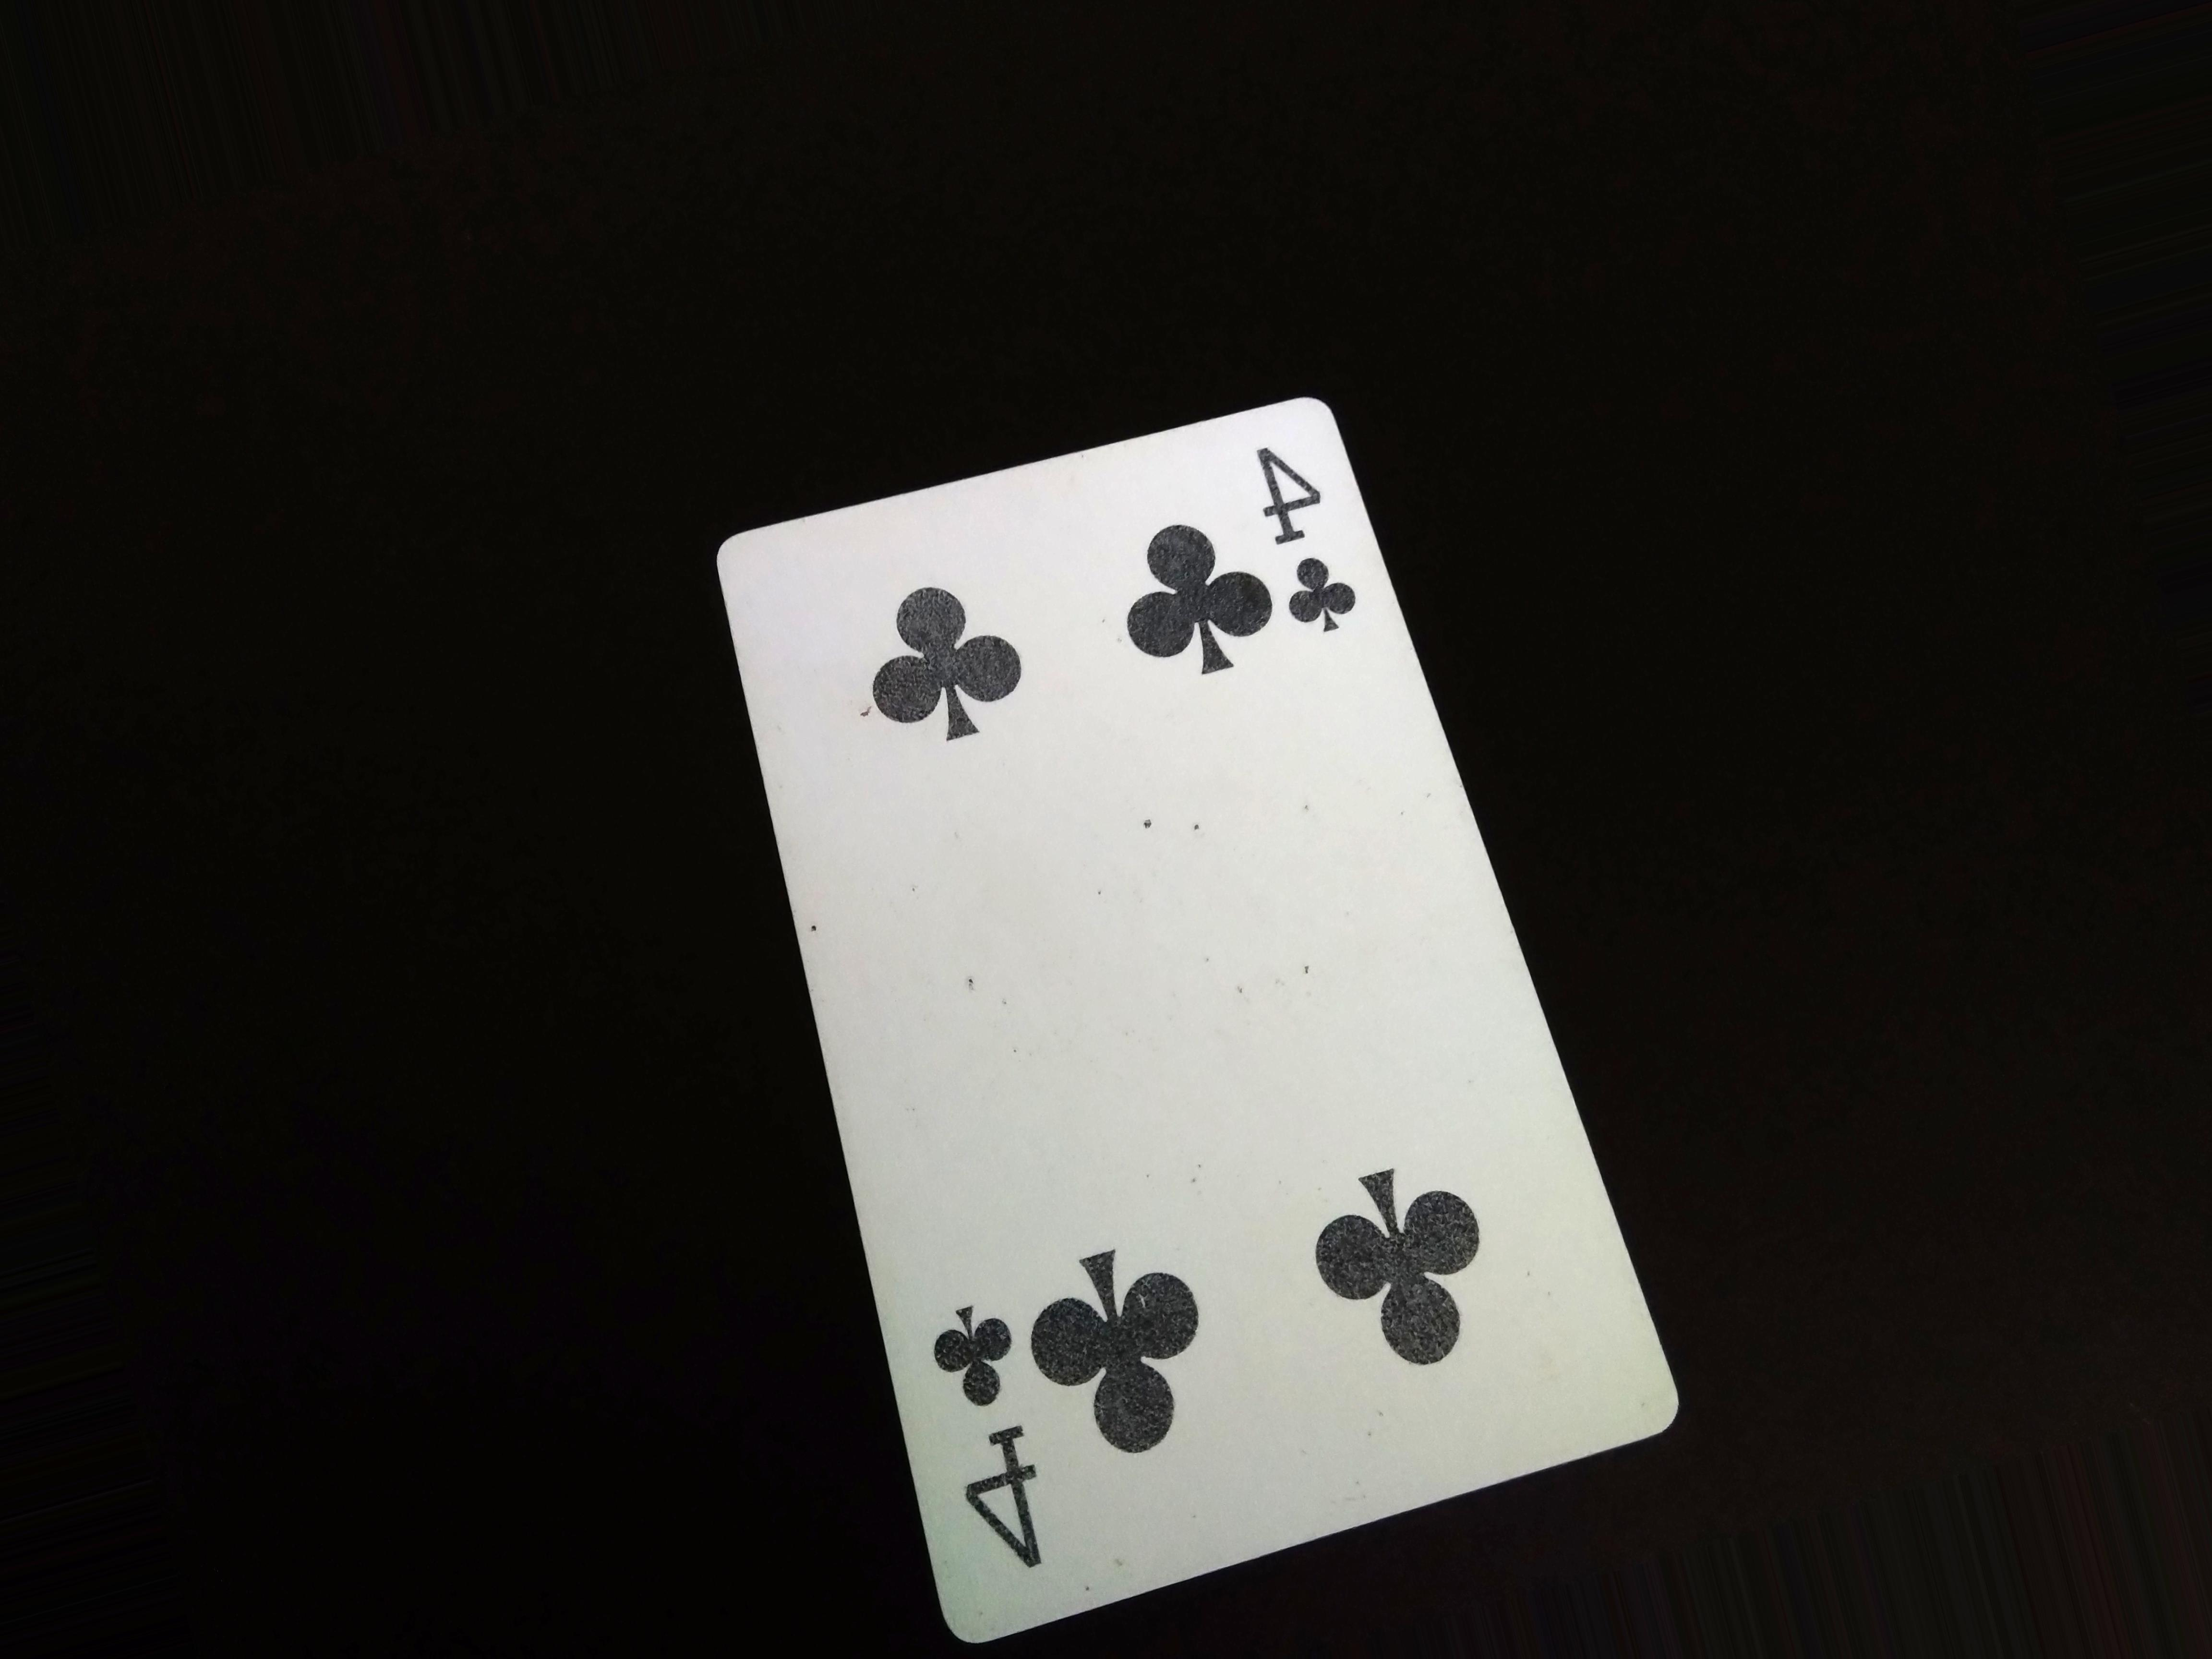4C: (1264, 418, 1343, 694)
